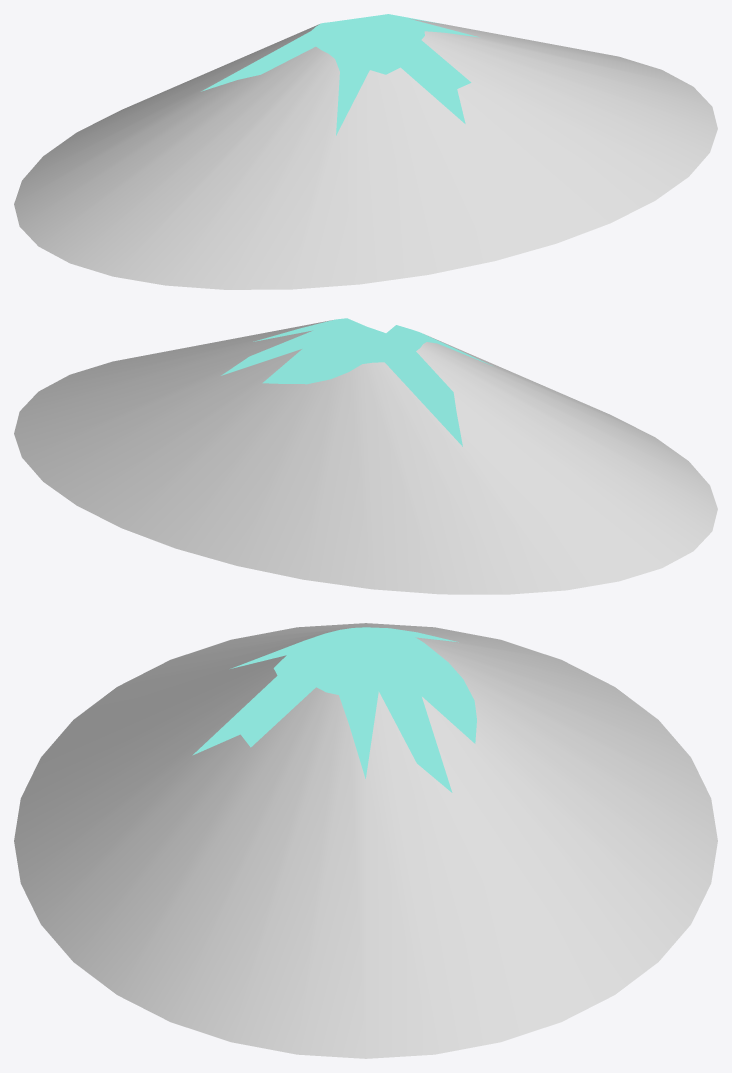
Rendered from SnowMound.fbx.
The picture shows the model from 3 angles, top to bottom: view 1: azimuth 30°, elevation 25°; view 2: azimuth 150°, elevation 25°; view 3: azimuth 270°, elevation 25°; orthographic projection. The views are drawn at different scales.
Visible parts, largest first — view 1: Circle; view 2: Circle; view 3: Circle.
Boxes of the visible parts, box(x1,y1,x2,y2) form: Circle: box(14, 14, 717, 289); Circle: box(14, 318, 717, 594); Circle: box(14, 623, 717, 1058).
Bounding box in the file's own units: 834 × 162 × 569.
